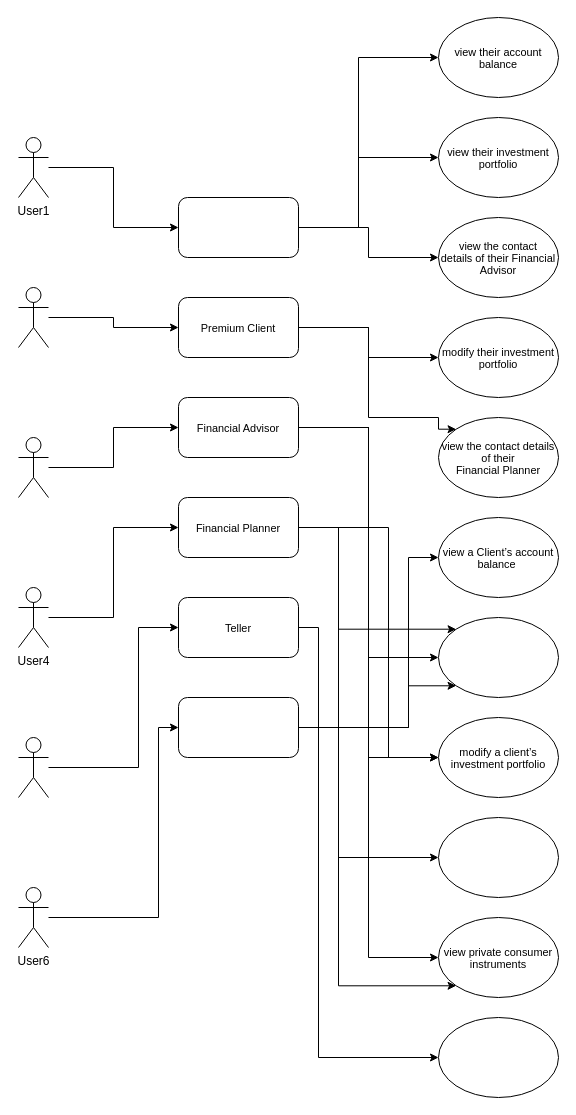
Image size: 576x1115. Some labels were removed from this diagram. Each missing label, with the centre of its shape:
"access the system during business hours" belongs at point 498,1057.
"Client" belongs at point 238,227.
"justInvest Employee" belongs at point 238,727.
"User2" belongs at point 33,317.
"User3" belongs at point 33,467.
"User5" belongs at point 33,767.
"view a Client’s account investment portfolio" belongs at point 498,657.
"view money market instruments" belongs at point 498,857.
